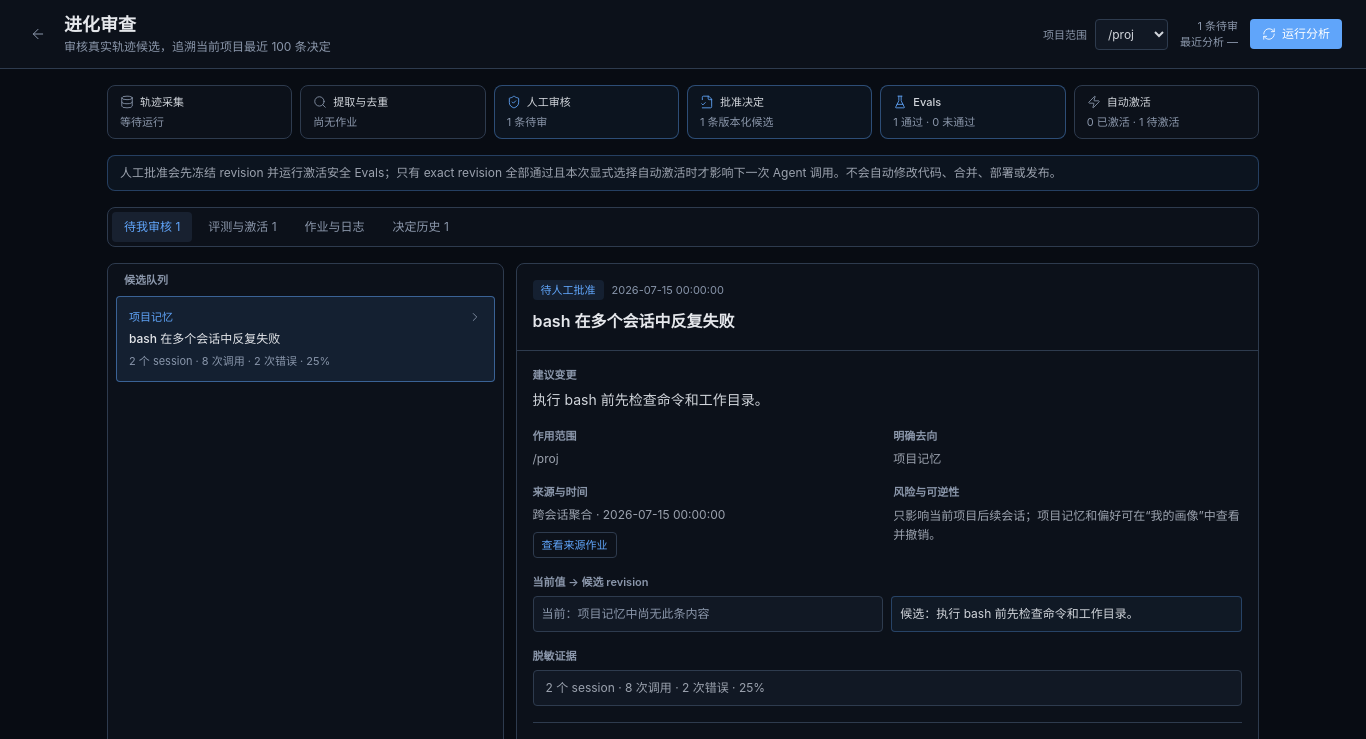
Test: EvolutionWorkbenchPage › keeps the refreshed candidate visible when activation becomes stale
Click the tab "评测与激活 1": (242, 227) [196,212,289,242]
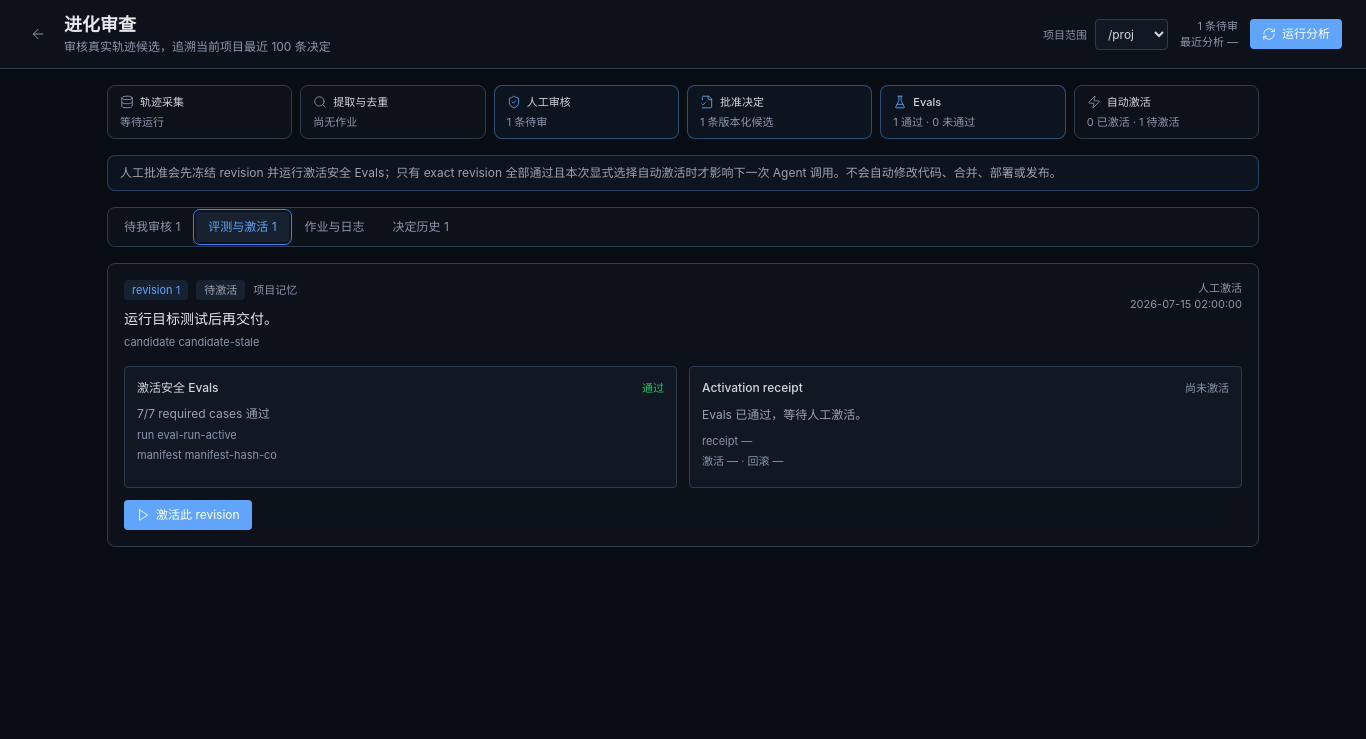
Click the button "激活此 revision": (188, 515) [124,500,252,530]
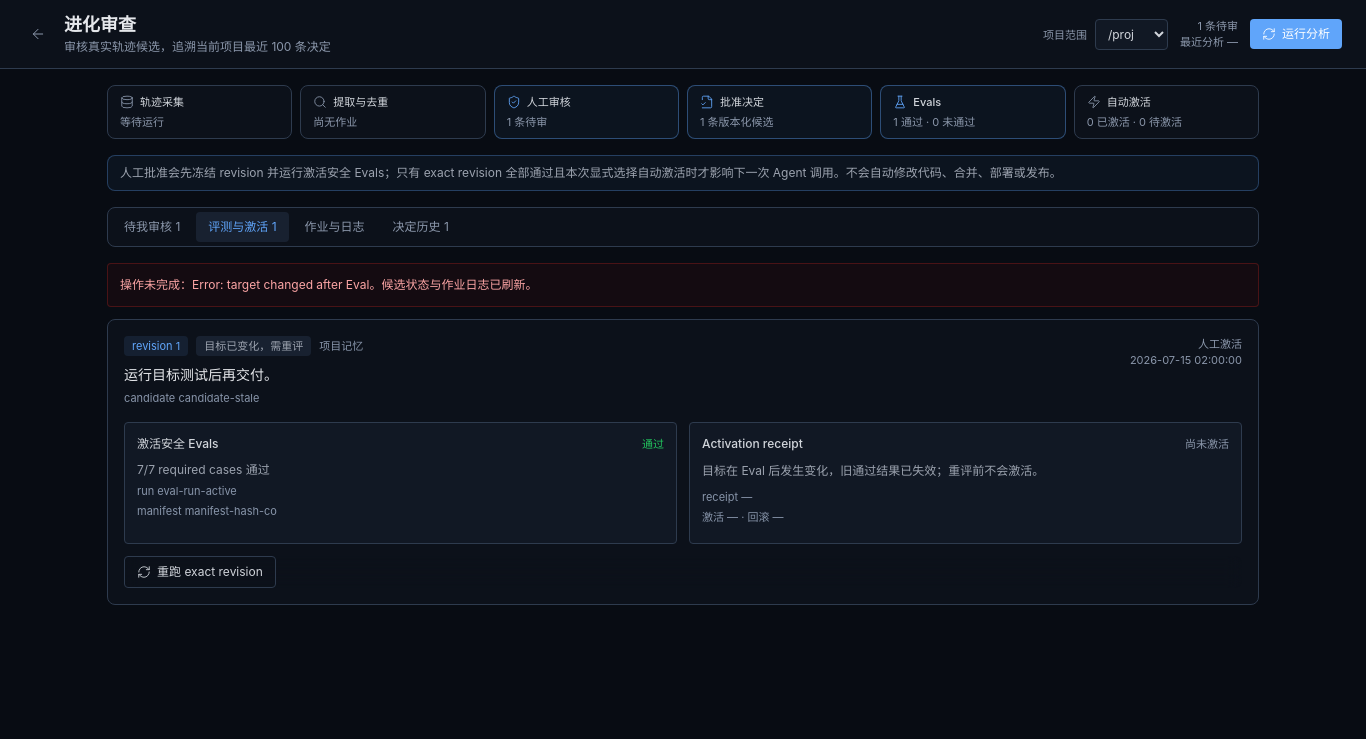
Now the message shows "target changed after Eval", box [192,277,369,292]
Now the text "目标已变化，需重评" is shown, box [196,336,311,356]
Now the button "重跑 exact revision" is shown, box [124,556,276,588]
